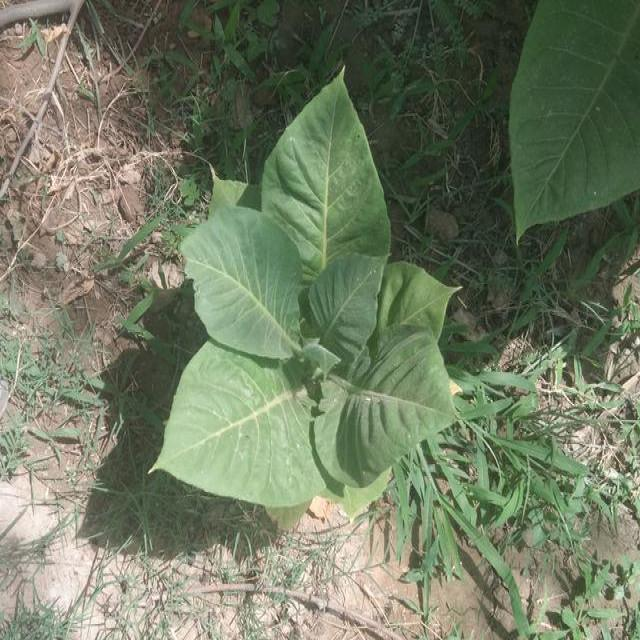crop: (140, 56, 467, 512)
